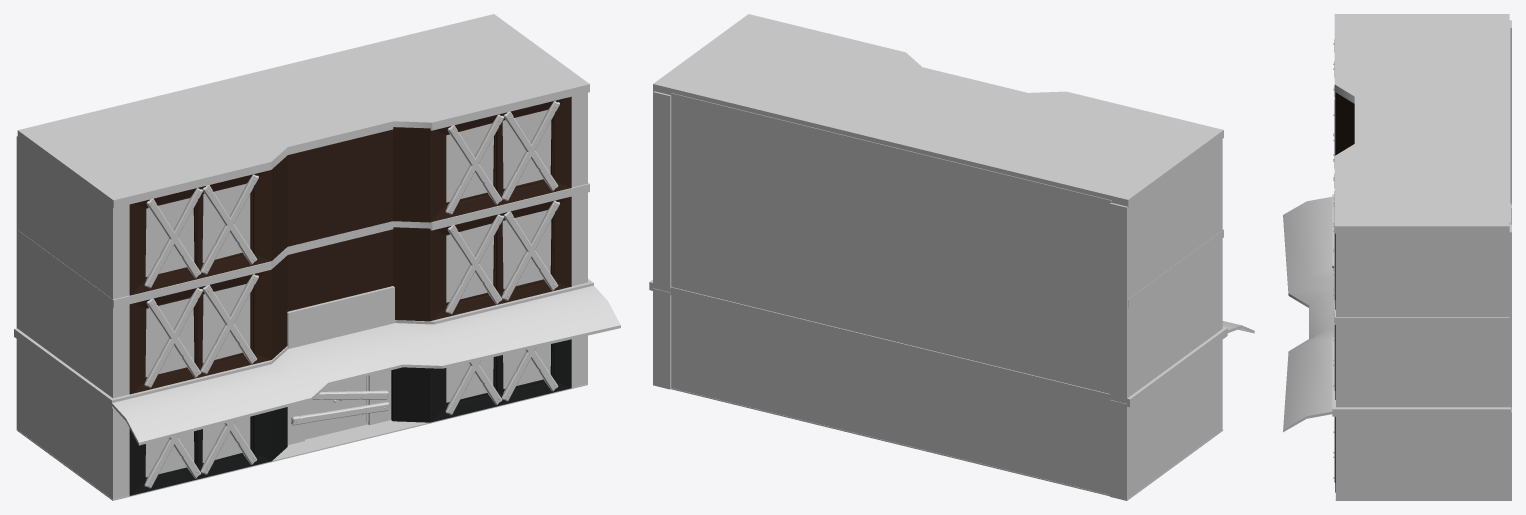
Rendered from Supermarket.fbx.
The picture shows the model from 3 angles, left to right: view 1: azimuth 30°, elevation 25°; view 2: azimuth 150°, elevation 25°; view 3: azimuth 270°, elevation 25°; orthographic projection. The views are drawn at different scales.
Parts seen in each view (by area): view 1: pCube25, pCube8, pCube5, pCube24, pCube23, pCube21, pCube20, pCube34, pCube7, pCube6, pCube22, Sign (+22 smaller); view 2: pCube4, pCube25, pCube5, pCube34, pCube8, pCube32, pCube33, pCube1, pCube22; view 3: pCube25, pCube32, pCube33, pCube8, pCube22, pCube23, pCube4, pCube5.
Boxes of the visible parts, bbox=[...] form: pCube25: bbox=[17, 14, 589, 208]; pCube8: bbox=[14, 279, 620, 445]; pCube5: bbox=[16, 136, 129, 398]; pCube24: bbox=[340, 96, 571, 233]; pCube23: bbox=[129, 142, 340, 295]; pCube21: bbox=[340, 196, 571, 321]; pCube20: bbox=[129, 242, 340, 394]; pCube34: bbox=[16, 339, 129, 499]; pCube7: bbox=[391, 339, 571, 422]; pCube6: bbox=[129, 407, 287, 495]; pCube22: bbox=[17, 183, 589, 308]; Sign: bbox=[287, 286, 394, 347]; pCube4: bbox=[671, 93, 1111, 494]; pCube25: bbox=[653, 14, 1223, 207]; pCube5: bbox=[1110, 139, 1222, 400]; pCube34: bbox=[1110, 340, 1222, 500]; pCube8: bbox=[649, 280, 1254, 407]; pCube32: bbox=[653, 91, 671, 289]; pCube33: bbox=[653, 288, 671, 389]; pCube1: bbox=[670, 388, 1223, 500]; pCube22: bbox=[1128, 229, 1223, 307]; pCube25: bbox=[1334, 14, 1509, 233]; pCube32: bbox=[1336, 224, 1511, 409]; pCube33: bbox=[1336, 409, 1511, 500]; pCube8: bbox=[1283, 194, 1511, 432]; pCube22: bbox=[1334, 300, 1509, 324]; pCube23: bbox=[1335, 92, 1354, 155]; pCube4: bbox=[1509, 25, 1510, 224]; pCube5: bbox=[1509, 20, 1511, 205].
Size of the model in its own units: 1923 by 1148 by 865.
